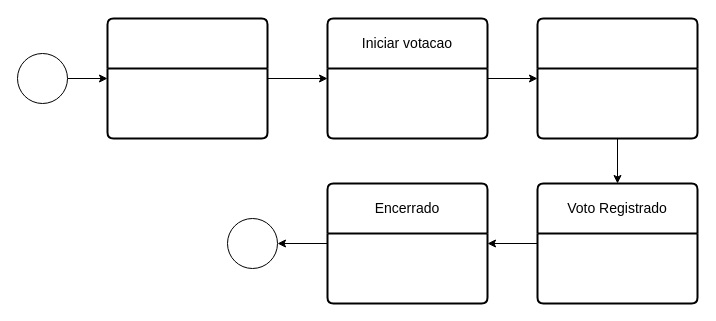
Image size: 716x321. Some labels were removed from this diagram. The box of each missing label's shape, as (x1, y1, x2, y2) in pixels:
Esperando voto: (106, 17, 268, 139)
Registrar voto: (536, 17, 698, 139)
